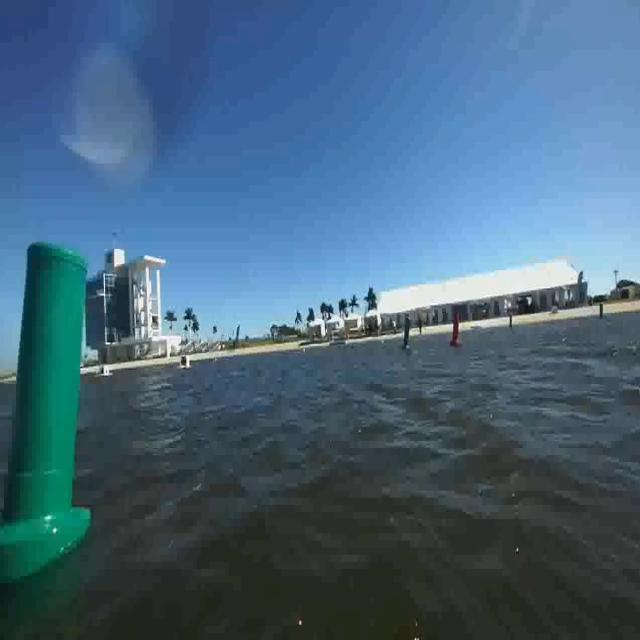green-column-buoy: (0, 239, 94, 567), (400, 316, 412, 352)
red-column-buoy: (448, 314, 461, 351)
